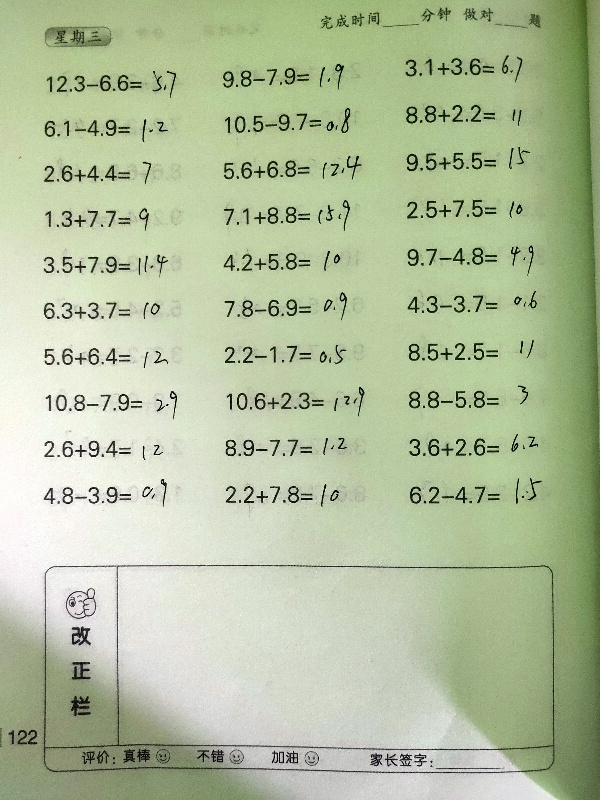equation: (400, 468, 556, 527), (36, 468, 176, 513), (215, 196, 365, 236), (219, 104, 360, 145), (31, 149, 167, 191), (39, 427, 177, 467), (404, 433, 557, 469), (396, 380, 544, 417), (400, 239, 543, 277), (403, 97, 532, 139), (223, 384, 369, 421), (217, 148, 369, 183), (43, 387, 182, 423), (222, 289, 359, 325), (219, 62, 364, 96), (393, 331, 537, 365), (43, 67, 181, 102), (399, 288, 553, 319), (403, 147, 543, 180), (401, 192, 539, 225), (393, 51, 535, 83), (222, 481, 368, 511), (37, 107, 172, 139), (220, 246, 363, 275), (221, 342, 368, 369), (40, 251, 172, 281), (221, 434, 369, 459), (40, 344, 172, 370), (42, 205, 153, 235), (40, 299, 164, 323)
